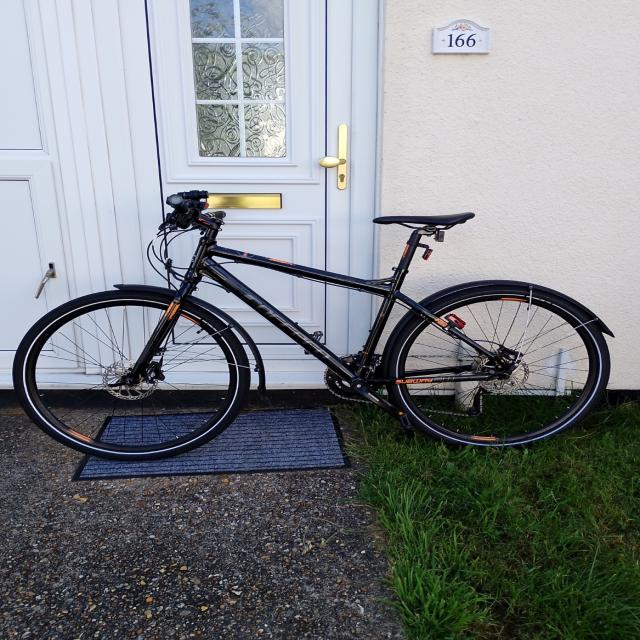bicycle: (11, 190, 615, 460)
